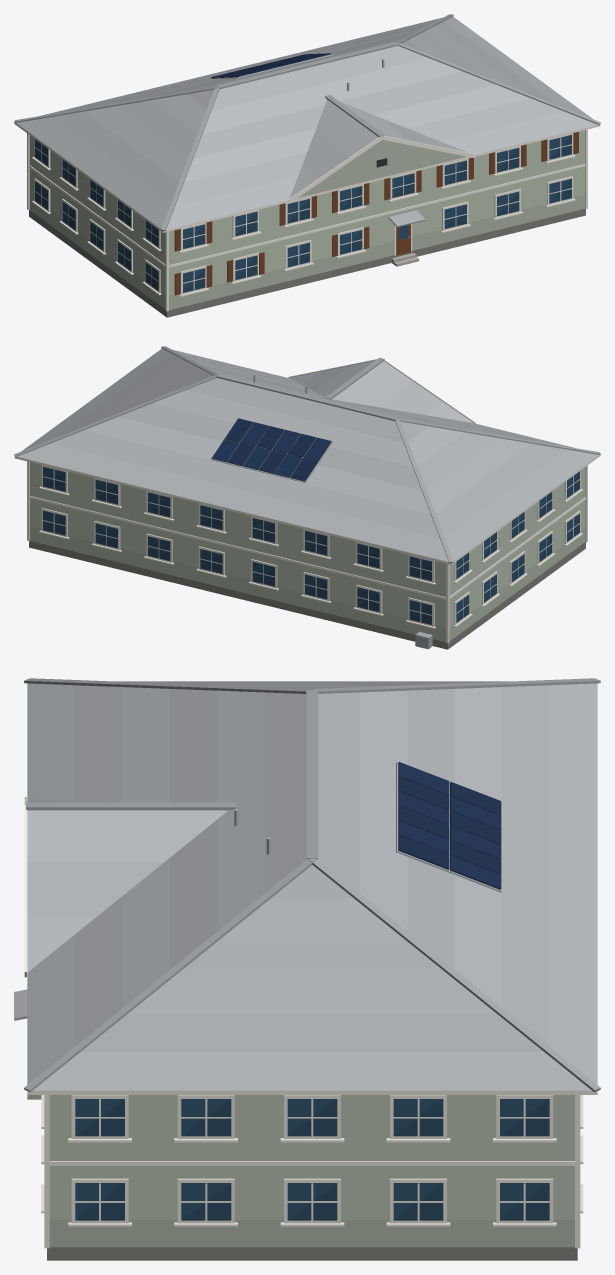
File: house_28x16_2f.glb
3 views of the same model, one above another, from view 1: azimuth 30°, elevation 25°; view 2: azimuth 150°, elevation 25°; view 3: azimuth 270°, elevation 25° (orthographic). The views are drawn at different scales.
Parts seen in each view (by area): view 1: house; view 2: house; view 3: house.
Part boxes in pixels (x1=…): house: x1=14, y1=14, x2=600, y2=317; house: x1=14, y1=346, x2=600, y2=649; house: x1=14, y1=678, x2=600, y2=1260.
Size of the model in its own units: 29.4 by 9.66 by 17.7.
